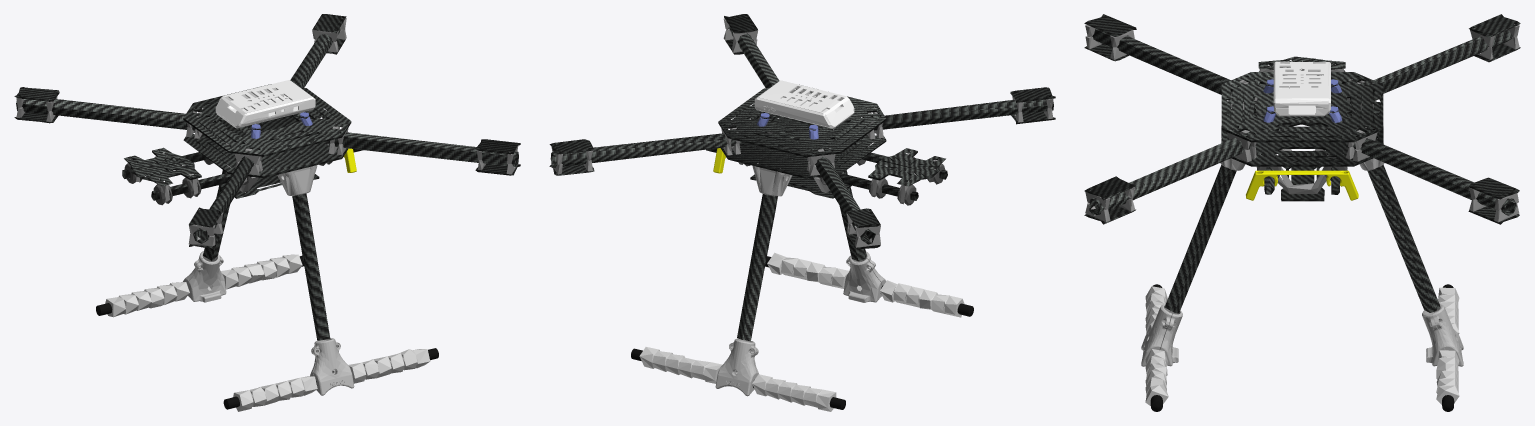
The model's file is NXP-HGD-CF.dae.
3 renders of one model, left to right at view 1: azimuth 30°, elevation 25°; view 2: azimuth 150°, elevation 25°; view 3: azimuth 270°, elevation 25°, orthographic. The views are drawn at different scales.
Parts seen in each view (by area): view 1: CarbonFiber, LandingFoam, LandingPlastic, FMUK66, Metal, RailsRubber, LandingRubber; view 2: CarbonFiber, LandingFoam, LandingPlastic, FMUK66, Metal, RailsRubber, LandingRubber; view 3: CarbonFiber, Metal, LandingFoam, LandingPlastic, FMUK66, RailsAntennaHolder, FMURubber, LandingRubber.
Boxes of the visible parts, x1,y1,x2,y2 form: CarbonFiber: (14,14,520,385); LandingFoam: (105,254,430,411); LandingPlastic: (183,142,354,395); FMUK66: (215,80,315,128); Metal: (16,18,518,246); RailsRubber: (124,131,332,205); LandingRubber: (96,255,438,409); CarbonFiber: (549,14,1055,387); LandingFoam: (639,252,964,411); LandingPlastic: (715,129,886,396); FMUK66: (754,80,854,128); Metal: (551,16,1053,247); RailsRubber: (738,132,945,205); LandingRubber: (631,256,973,409); CarbonFiber: (1084,14,1520,313); Metal: (1085,24,1519,222); LandingFoam: (1145,286,1459,406); LandingPlastic: (1141,126,1463,366); FMUK66: (1273,61,1330,116); RailsAntennaHolder: (1246,170,1358,200); FMURubber: (1263,79,1341,122); LandingRubber: (1150,284,1454,411).
Size of the model in its own units: 0.3966 by 0.3968 by 0.2804.
Materials: 9 (1 with a texture image).
